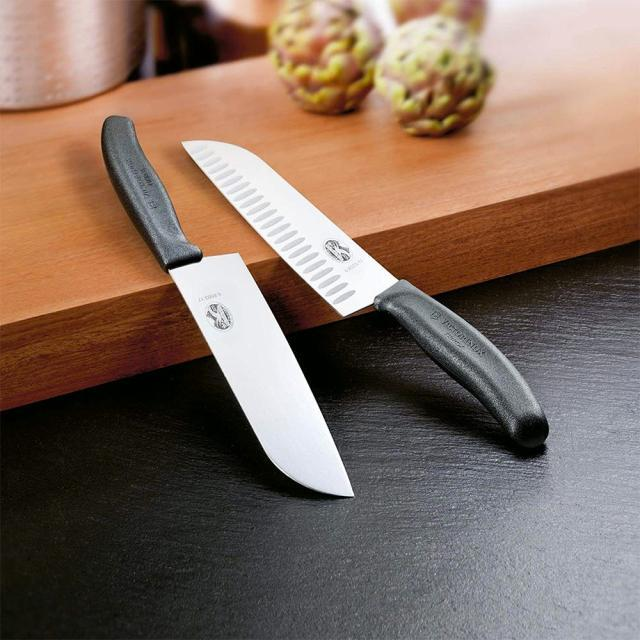knife: (167, 143, 562, 469), (87, 104, 381, 541)
